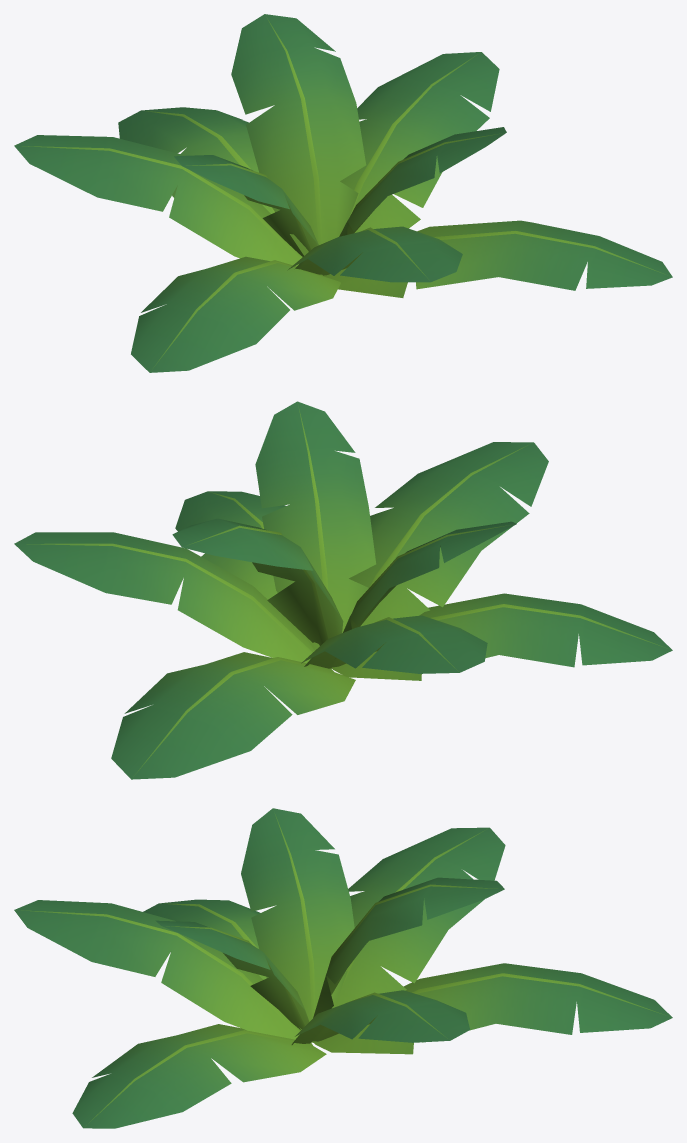
File: prop_environment_plant01_1.fbx
3 renders of one model, top to bottom at view 1: azimuth 30°, elevation 25°; view 2: azimuth 150°, elevation 25°; view 3: azimuth 270°, elevation 25°, orthographic. The views are drawn at different scales.
Visible parts, largest first — view 1: prop_environment_plant01_1; view 2: prop_environment_plant01_1; view 3: prop_environment_plant01_1.
Part boxes in pixels (left/top/right/bottom): prop_environment_plant01_1: left=14, top=14, right=672, bottom=372; prop_environment_plant01_1: left=14, top=401, right=672, bottom=779; prop_environment_plant01_1: left=14, top=808, right=672, bottom=1128.
Size of the model in its own units: 389 by 136 by 465.
1 material, 1 textured.
